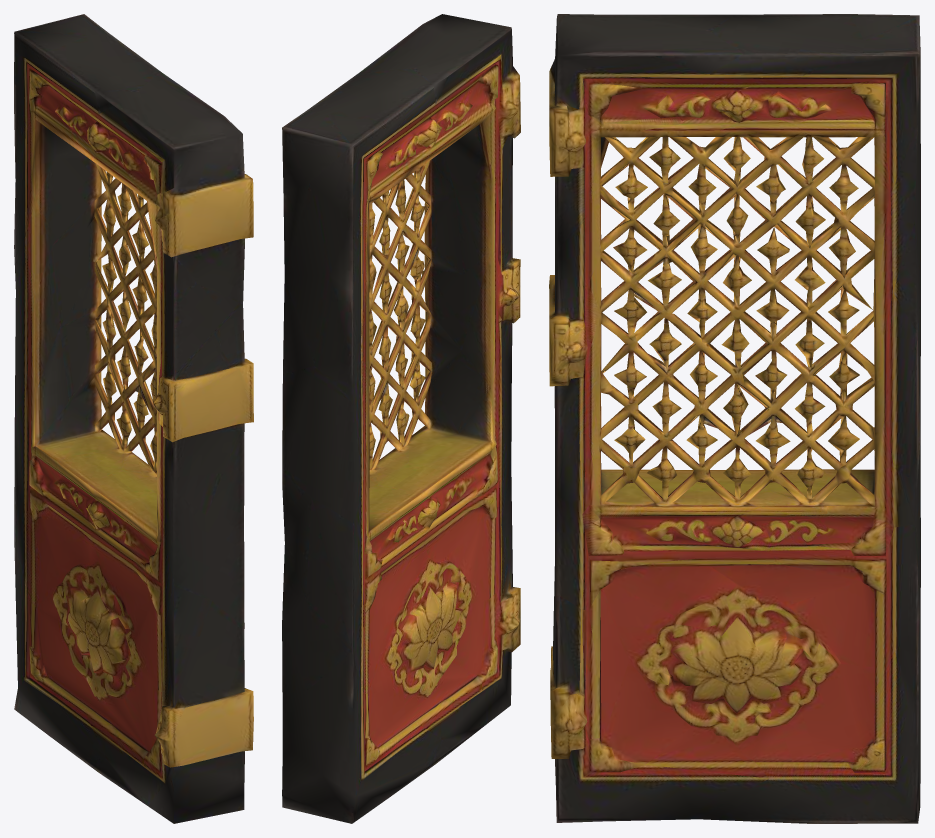
File: hall_door.glb
3 views of the same model, side by side, from view 1: azimuth 30°, elevation 25°; view 2: azimuth 150°, elevation 25°; view 3: azimuth 270°, elevation 25° (orthographic). The views are drawn at different scales.
Parts seen in each view (by area): view 1: kusuriuri; view 2: kusuriuri; view 3: kusuriuri.
Part boxes in pixels (x1,y1,x2,y2): kusuriuri: (14, 14, 253, 823); kusuriuri: (282, 14, 520, 823); kusuriuri: (549, 14, 920, 823).
Bounding box in the file's own units: 0.4501 × 3 × 1.31.
1 material, 1 textured.
